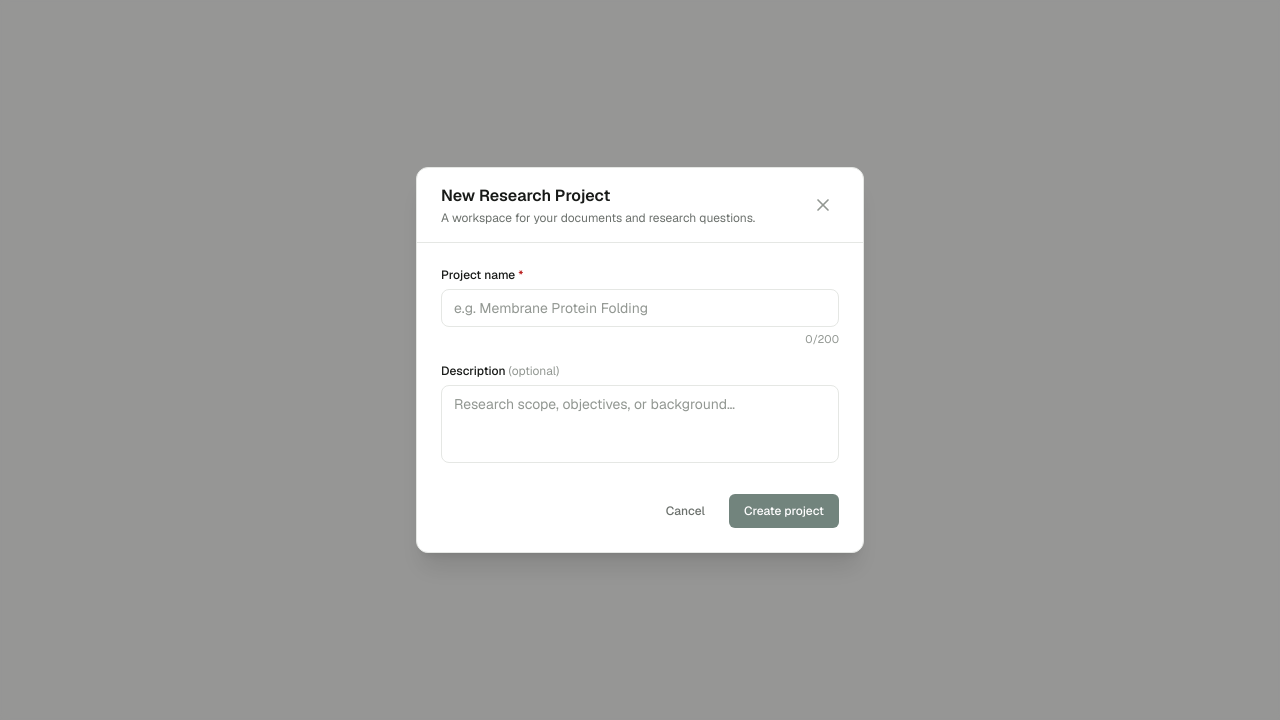
Test: CreateProjectDialog › shows error message on API failure
This screenshot has width=1280, height=720.
Type "New Project" into the field labelled "Project name *". click: (640, 308)
box: top-left (441, 289), bottom-right (839, 327)
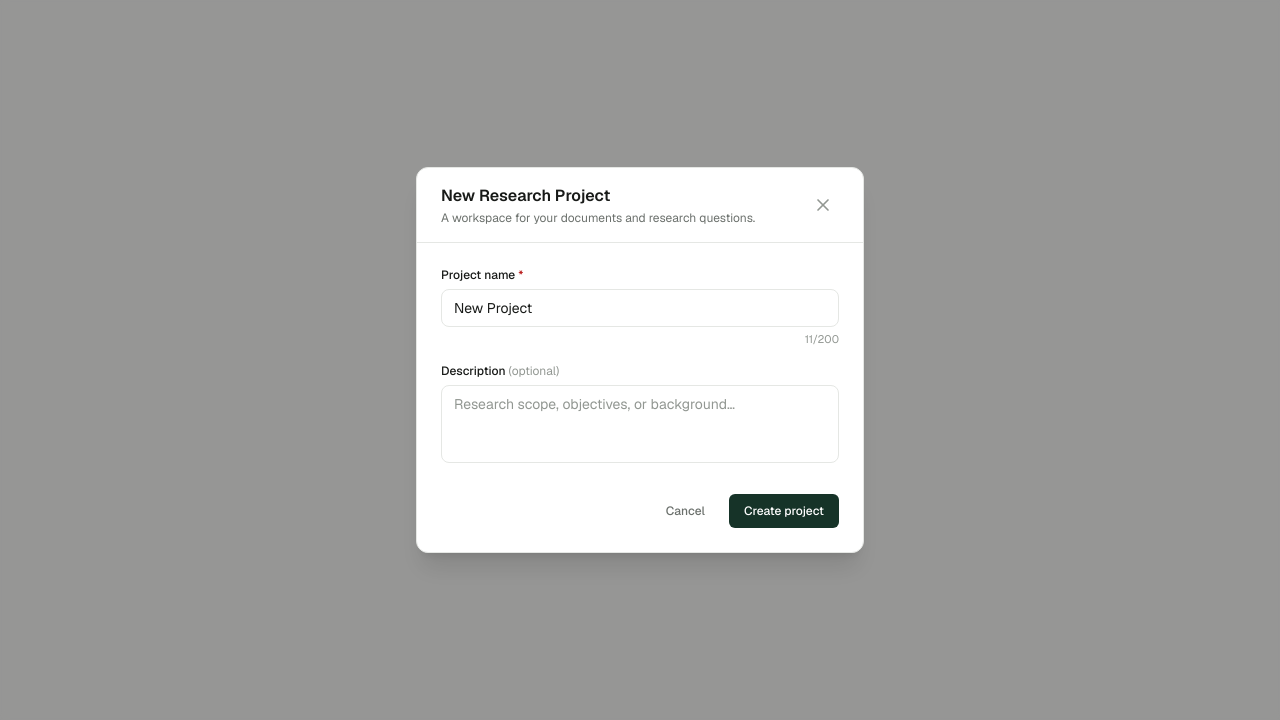
Submit the form, box top-left (417, 243), bottom-right (863, 552)
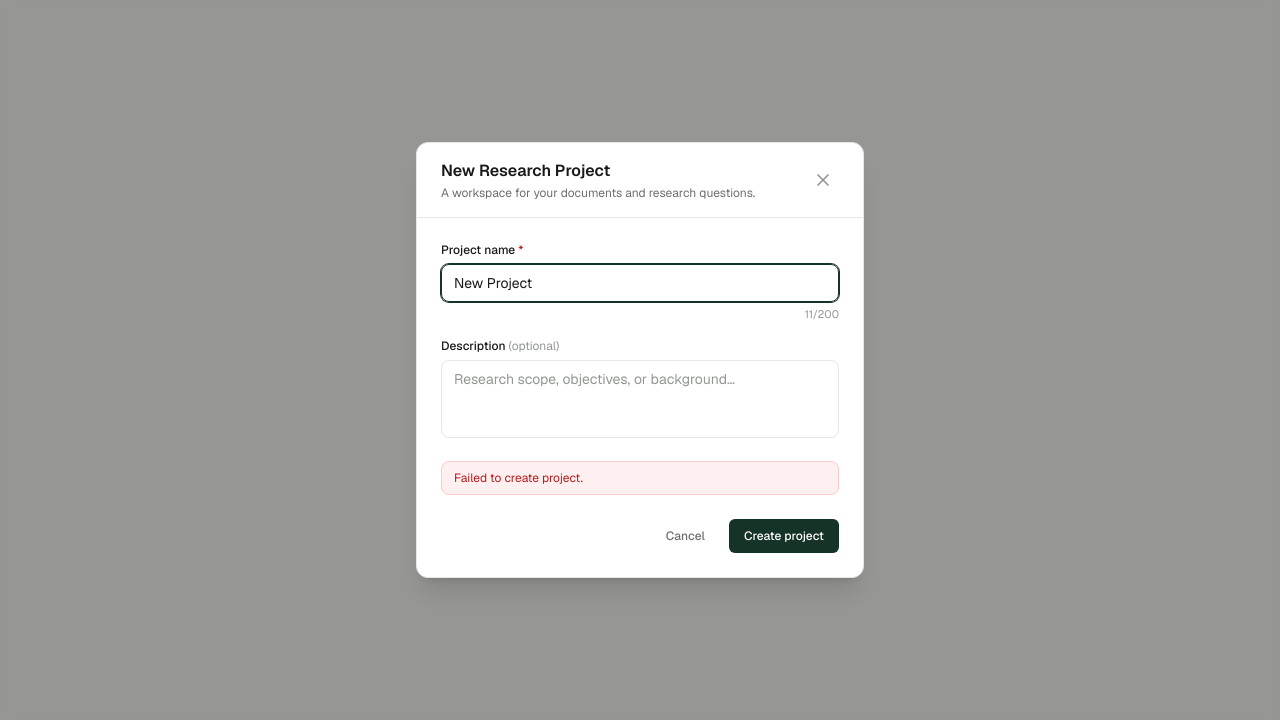
Expected: the message "Failed to create project." is shown, top-left (441, 461), bottom-right (839, 495)
